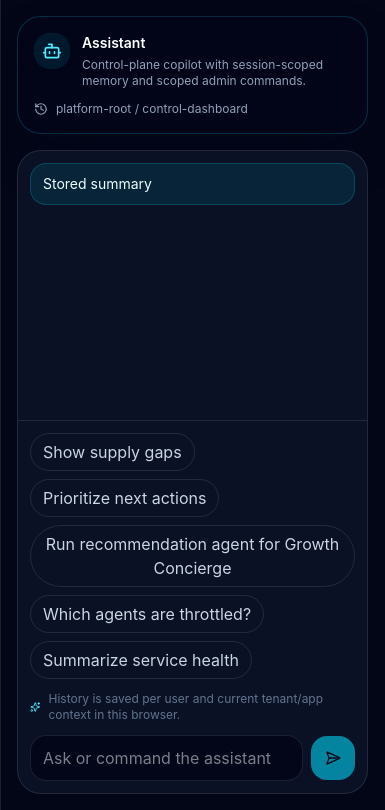
Test: AssistantSidebar › loads stored conversation history and persists new assistant replies
Expected: the text "Stored summary" is shown, [43,175,152,192]
In the field named "ask the assistant": (166, 758) [30,735,303,781], type "Which agents are throttled?"
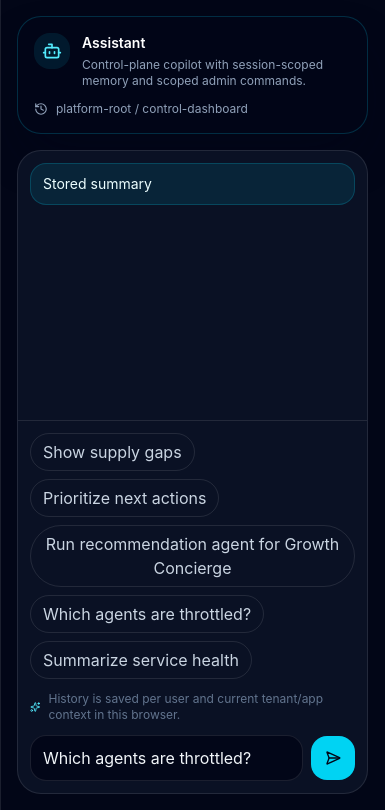
Click the button named "send assistant message": (333, 758) [311,736,355,780]
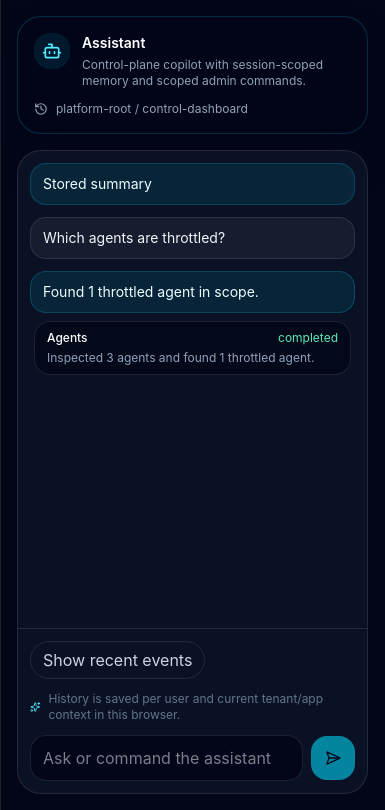
Expected: the text "Found 1 throttled agent in scope." is shown, [43,283,259,300]
Expected: the text "Agents" is shown, [47,330,88,346]
Expected: the button "Show recent events" is shown, [30,641,205,679]
